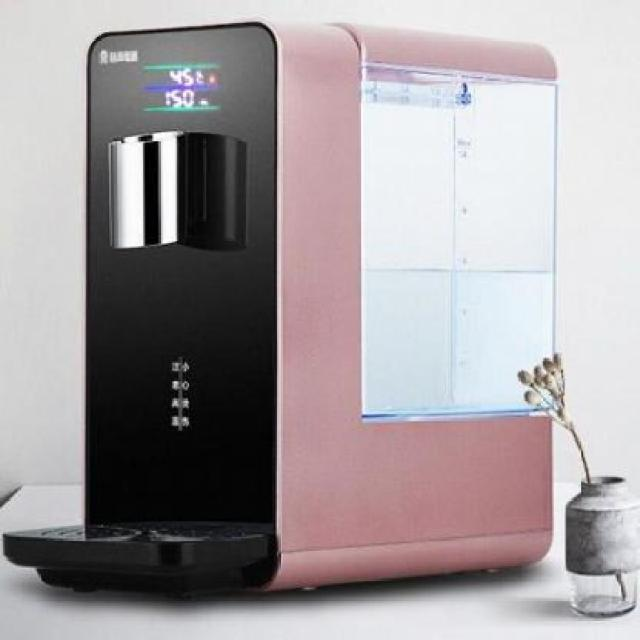cooler: (6, 25, 556, 596)
